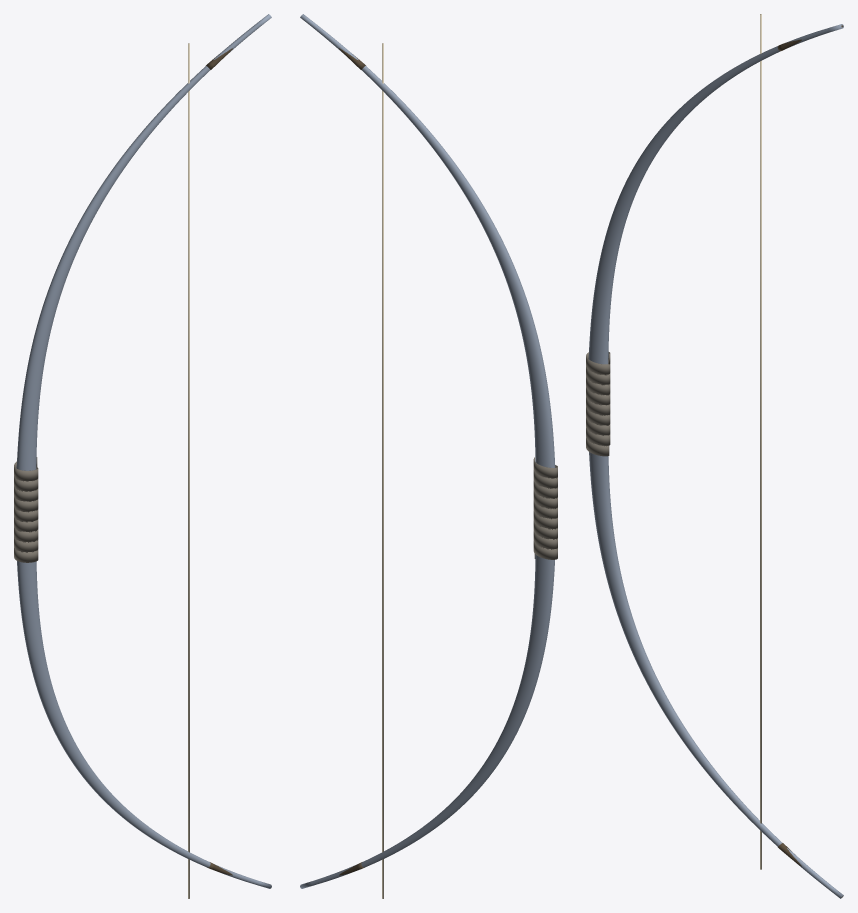
The model's file is Bow_Wooden.gltf.
The picture shows the model from 3 angles, left to right: view 1: azimuth 30°, elevation 25°; view 2: azimuth 150°, elevation 25°; view 3: azimuth 330°, elevation 25°; orthographic projection.
Visible parts, largest first — view 1: ContinuousTaperedLimbs, BowHideGrip, RestCord; view 2: ContinuousTaperedLimbs, BowHideGrip, RestCord; view 3: ContinuousTaperedLimbs, BowHideGrip, RestCord.
Part boxes in pixels (left/top/right/bottom): ContinuousTaperedLimbs: left=16, top=14, right=271, bottom=888; BowHideGrip: left=14, top=457, right=38, bottom=562; RestCord: left=188, top=43, right=189, bottom=898; ContinuousTaperedLimbs: left=300, top=14, right=555, bottom=888; BowHideGrip: left=533, top=457, right=557, bottom=559; RestCord: left=382, top=43, right=383, bottom=898; ContinuousTaperedLimbs: left=588, top=24, right=843, bottom=898; BowHideGrip: left=586, top=352, right=610, bottom=456; RestCord: left=760, top=14, right=761, bottom=869.
Size of the model in its own units: 0.3233 by 1.05 by 0.0206.
